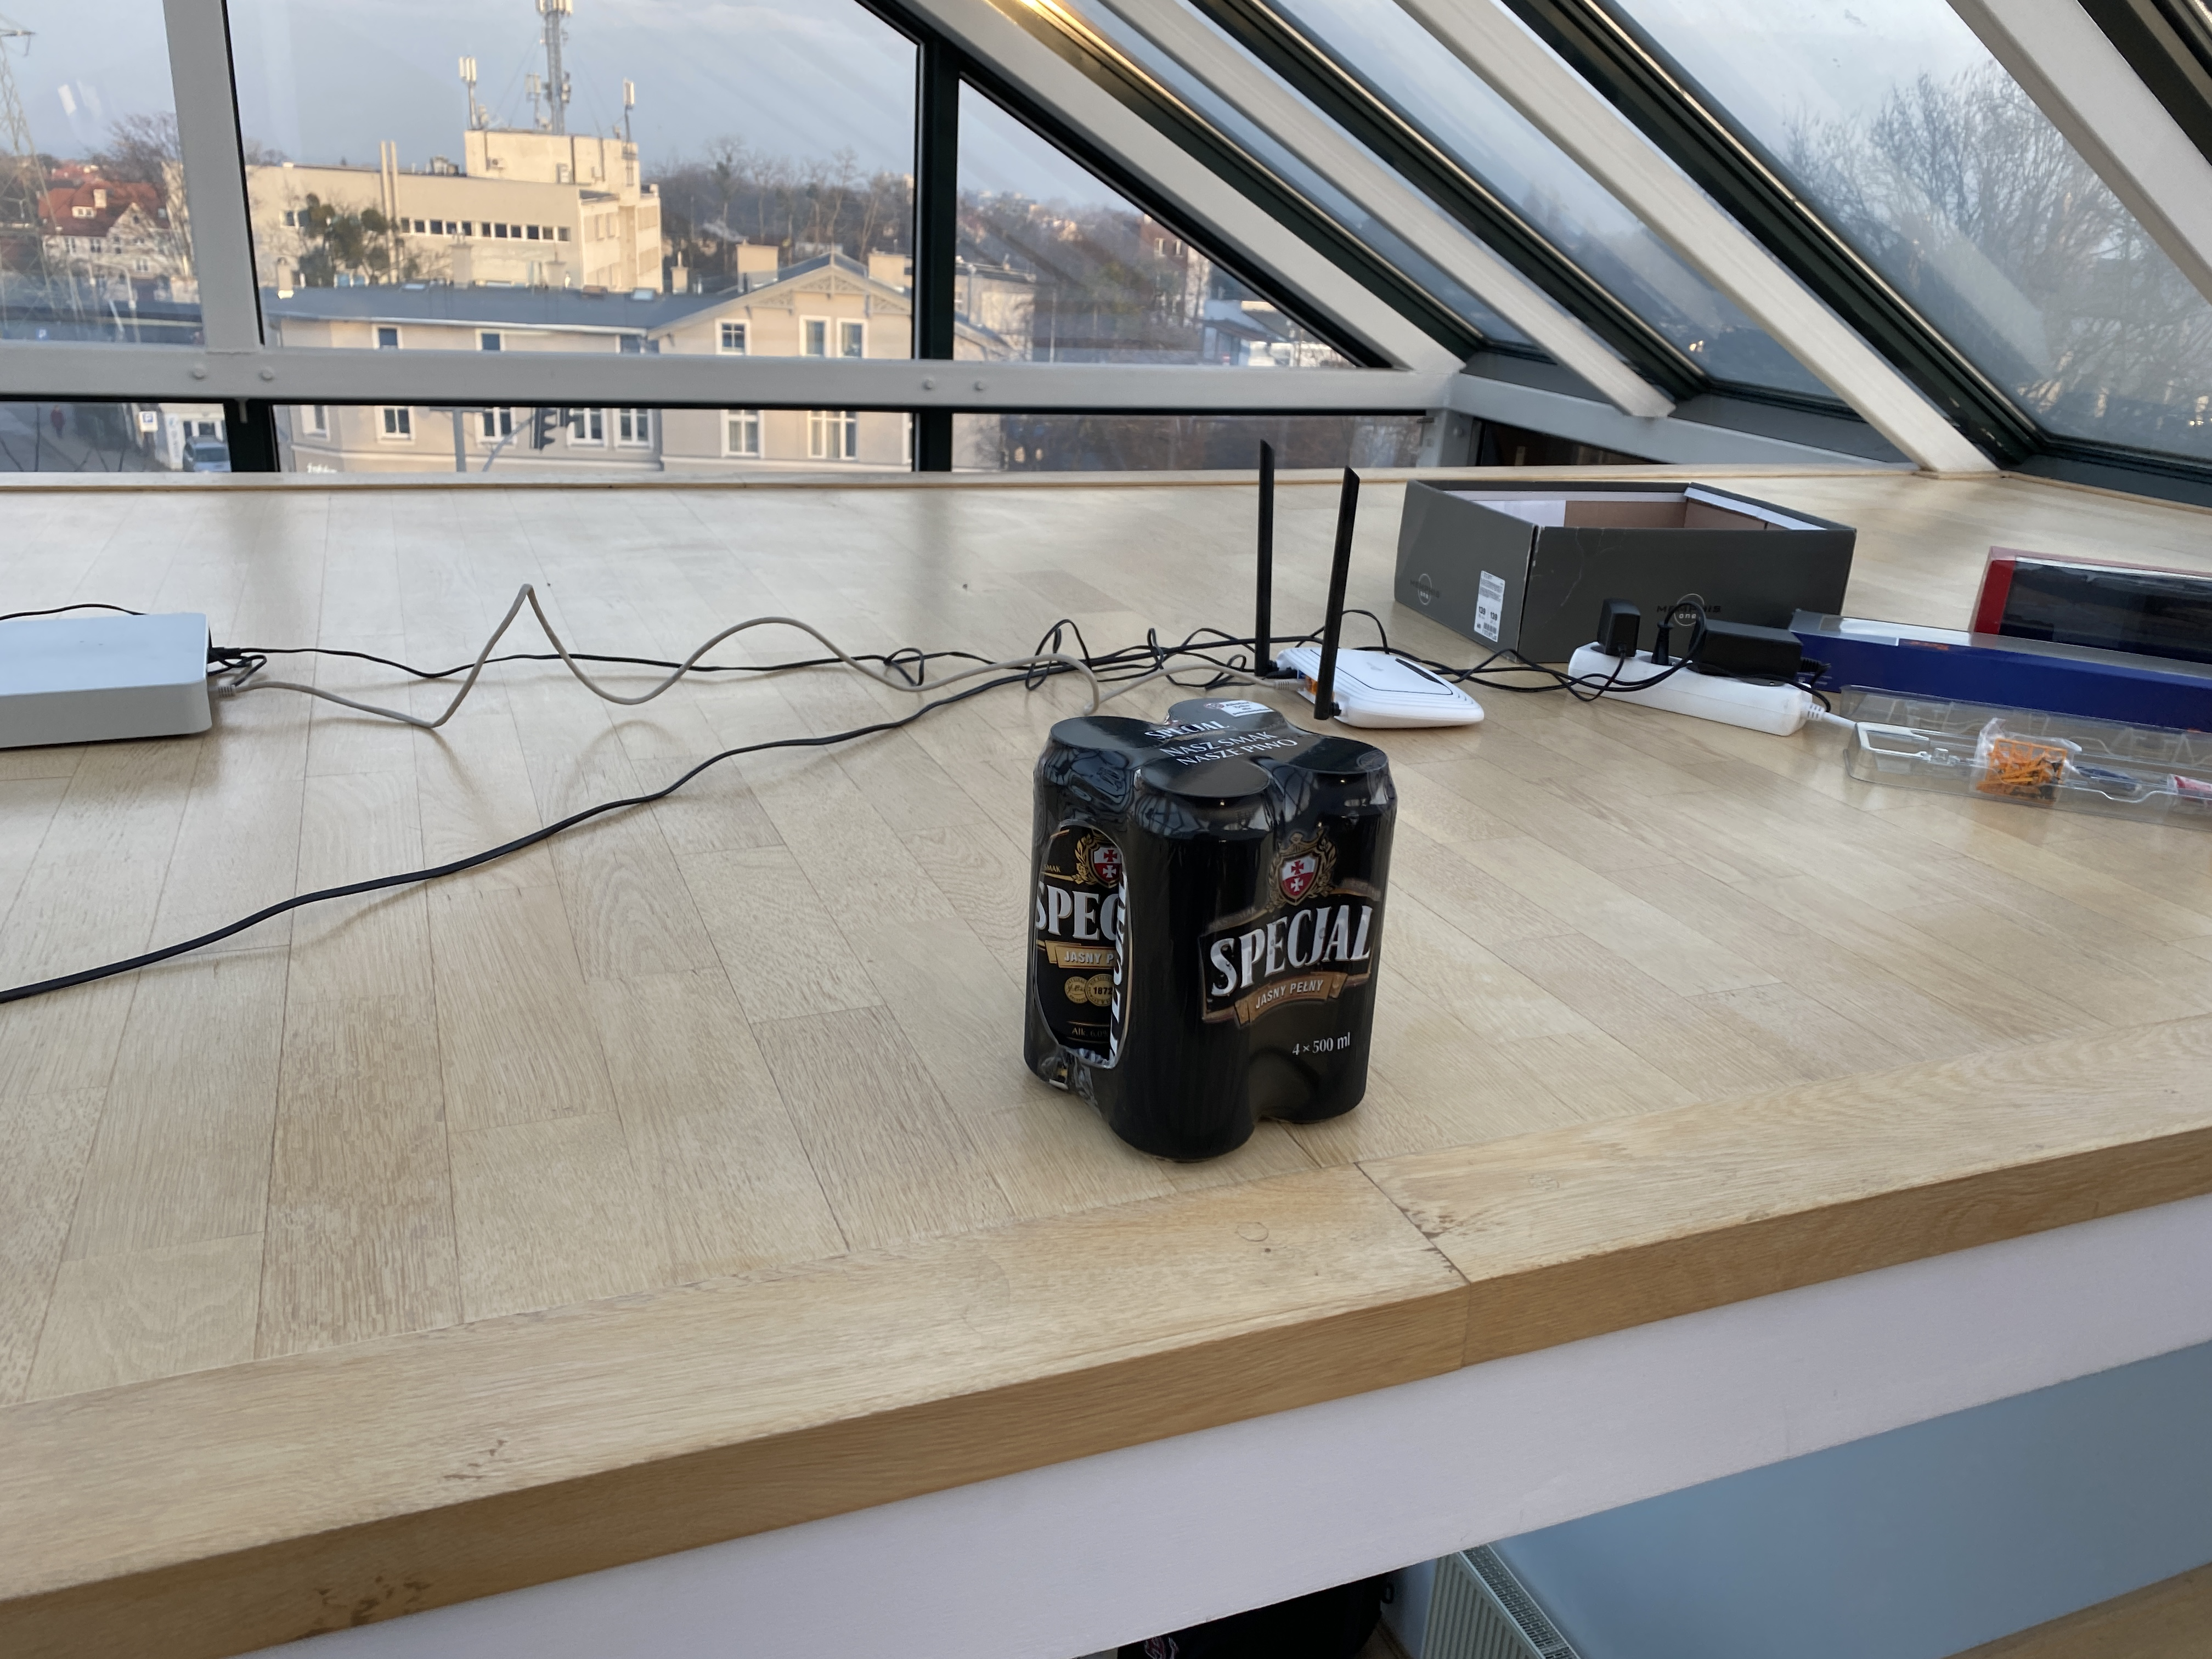specjal: (1021, 699, 1397, 1171)
